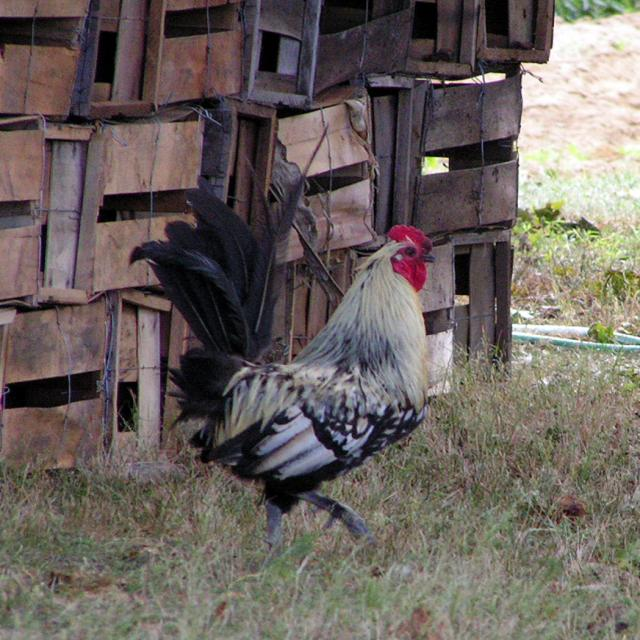Chicken: (149, 214, 454, 533)
